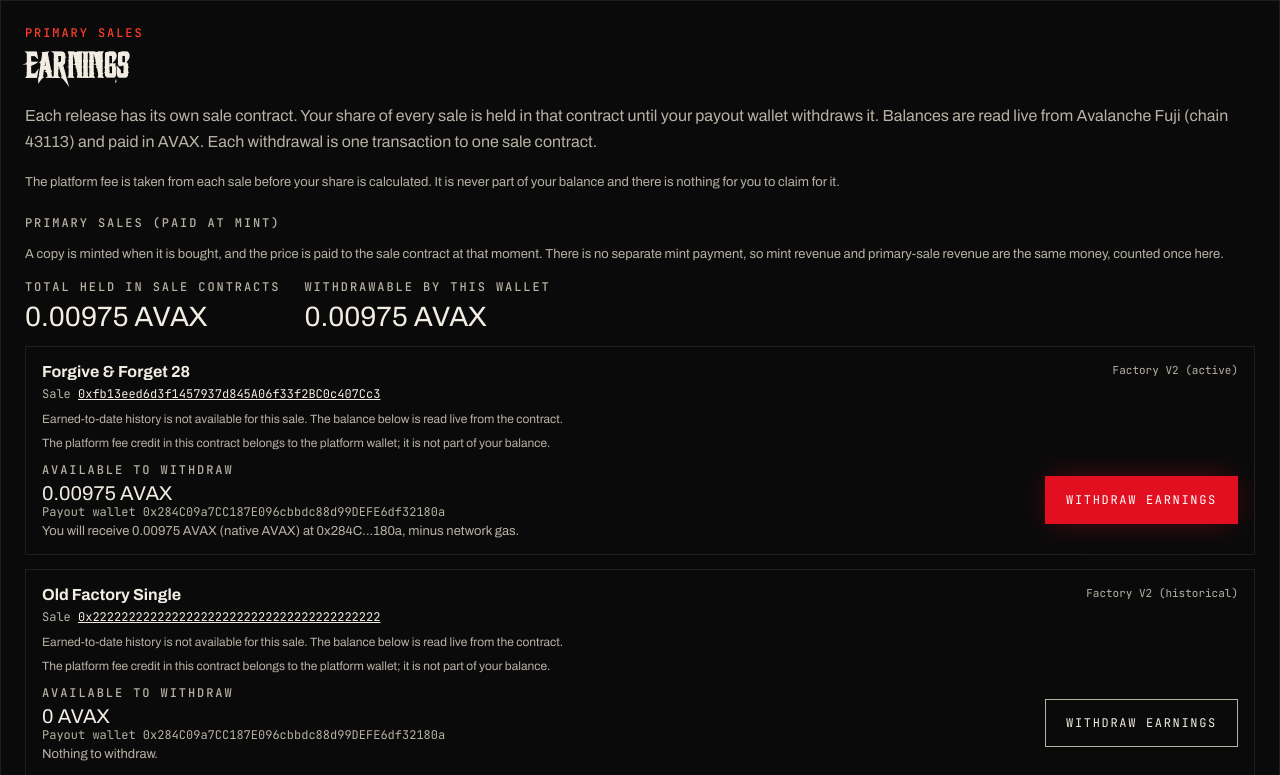
Test: Studio earnings › simulates withdraw() and then sends exactly one withdraw() to that sale, showing the tx and refreshed balance
The image size is (1280, 775).
Click the button with aria-label "Withdraw from Forgive & Forget 28" at (1142, 500), box [1045, 476, 1238, 524]
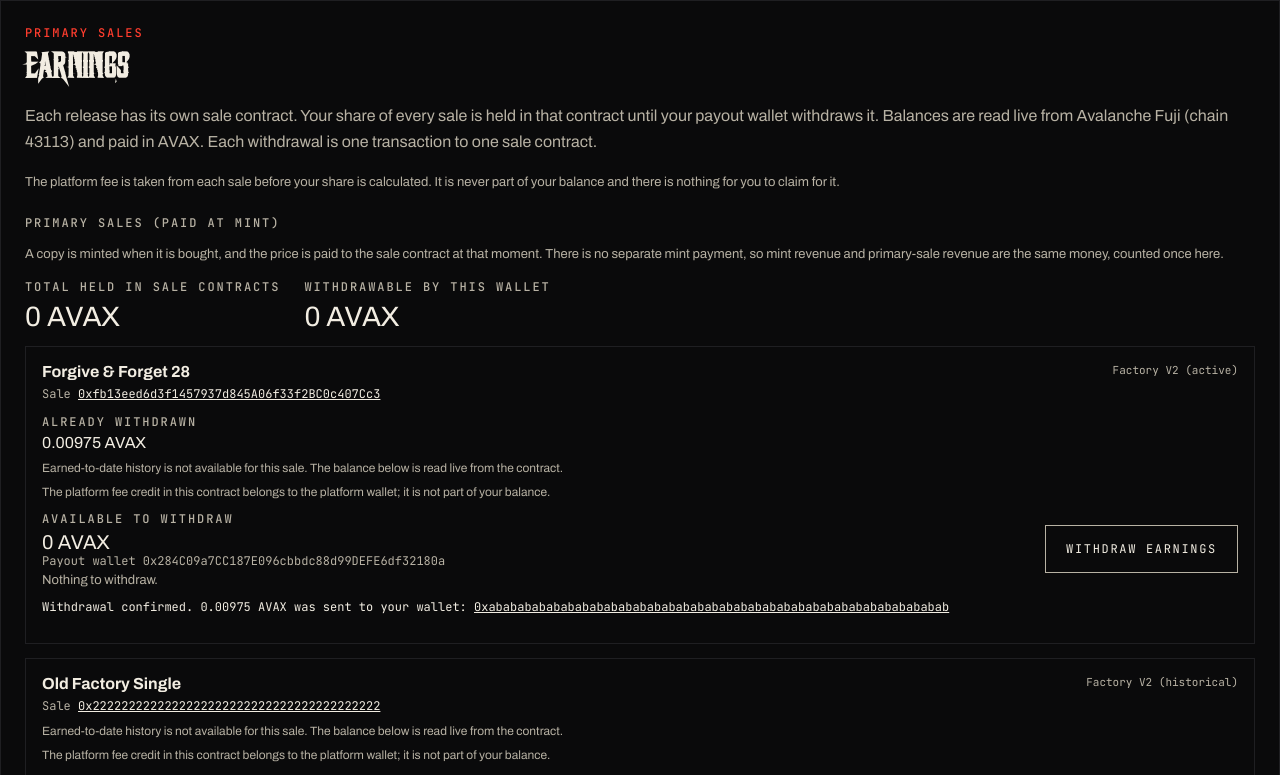
Now the text "0 AVAX" below "Forgive & Forget 28" is shown, box [42, 531, 110, 553]
Now the button with aria-label "Withdraw from Forgive & Forget 28" is disabled, box [1045, 525, 1238, 573]
